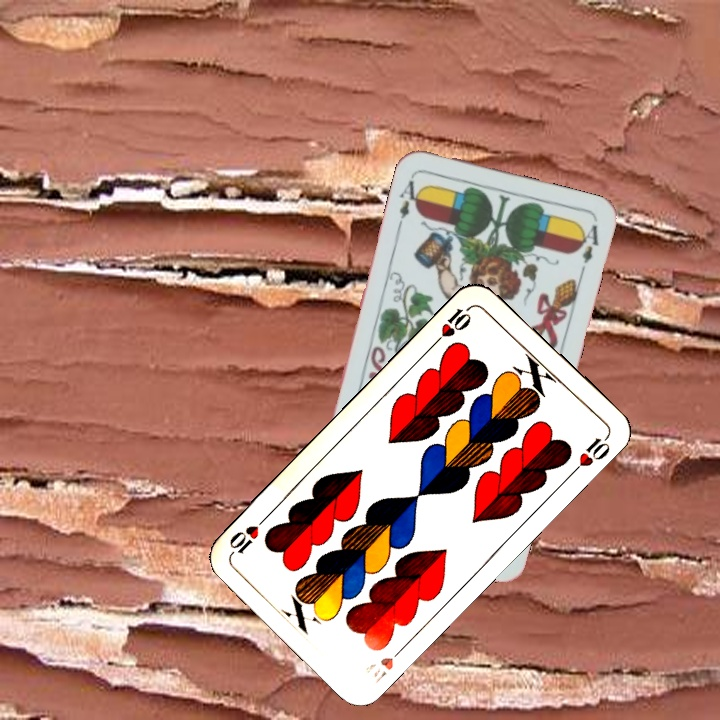EA: (393, 171, 425, 229)
H10: (430, 301, 476, 347), (369, 641, 409, 687)
